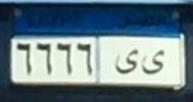6: (74, 41, 93, 76), (56, 40, 73, 77), (35, 43, 54, 76), (16, 41, 33, 77)
yaa: (141, 47, 166, 76), (115, 46, 138, 77)
